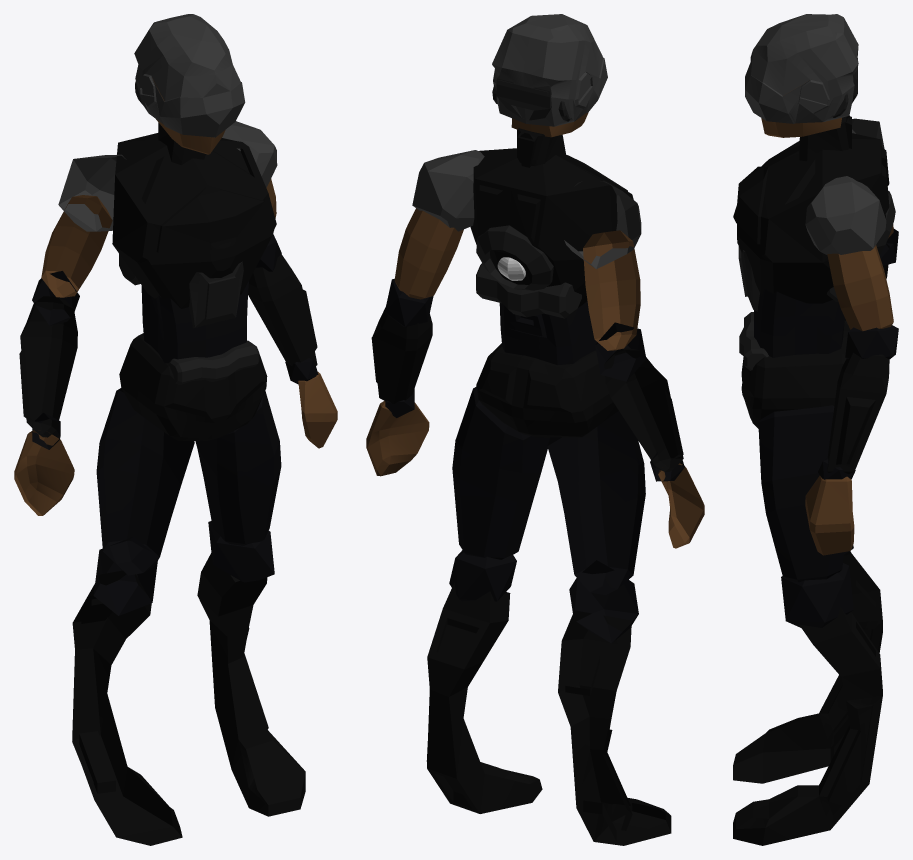
File: character.obj
3 views of the same model, side by side, from view 1: azimuth 30°, elevation 25°; view 2: azimuth 150°, elevation 25°; view 3: azimuth 270°, elevation 25° (orthographic). The views are drawn at different scales.
Visible parts, largest first — view 1: Cylinder.001; view 2: Cylinder.001; view 3: Cylinder.001.
Boxes of the visible parts, x1=… form: Cylinder.001: x1=14, y1=14, x2=337, y2=845; Cylinder.001: x1=366, y1=14, x2=704, y2=845; Cylinder.001: x1=733, y1=14, x2=898, y2=845.
Bounding box in the file's own units: 4.41 × 10.66 × 2.05.
